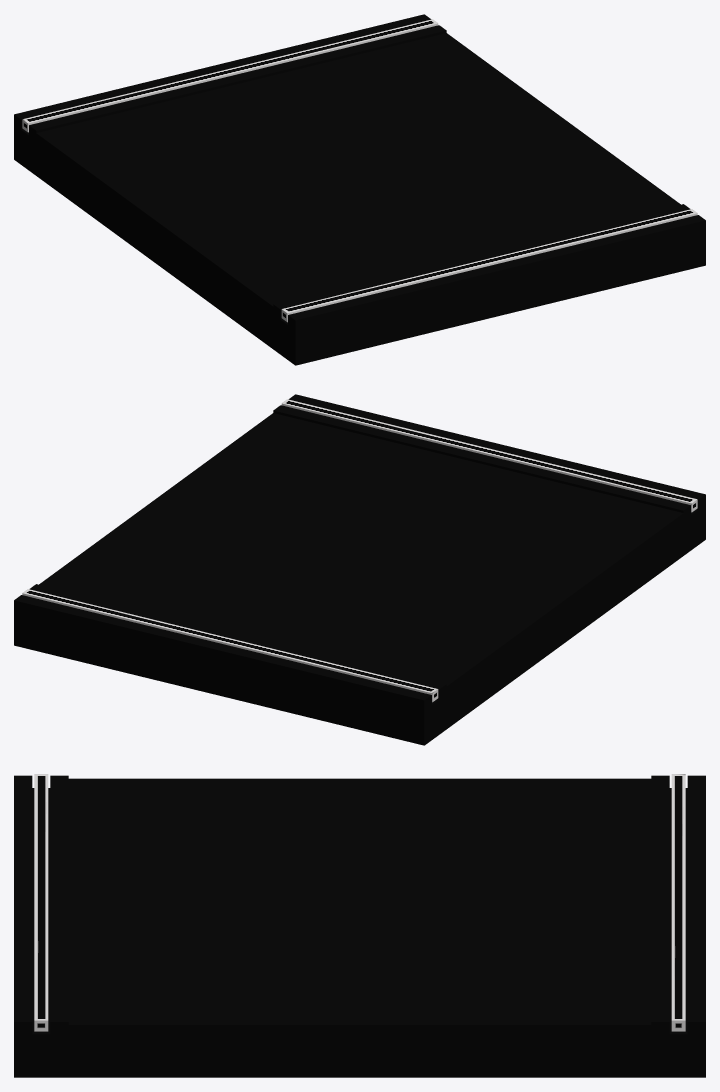
The model's file is platforme01.FBX.
3 renders of one model, top to bottom at view 1: azimuth 30°, elevation 25°; view 2: azimuth 150°, elevation 25°; view 3: azimuth 270°, elevation 25°, orthographic. The views are drawn at different scales.
Visible parts, largest first — view 1: Box001; view 2: Box001; view 3: Box001.
Part boxes in pixels (x1,y1,x2,y2): Box001: (14, 14, 705, 365); Box001: (14, 394, 705, 745); Box001: (14, 774, 705, 1077).
Bounding box in the file's own units: 41 × 4.42 × 48.7.
1 material, 1 textured.
